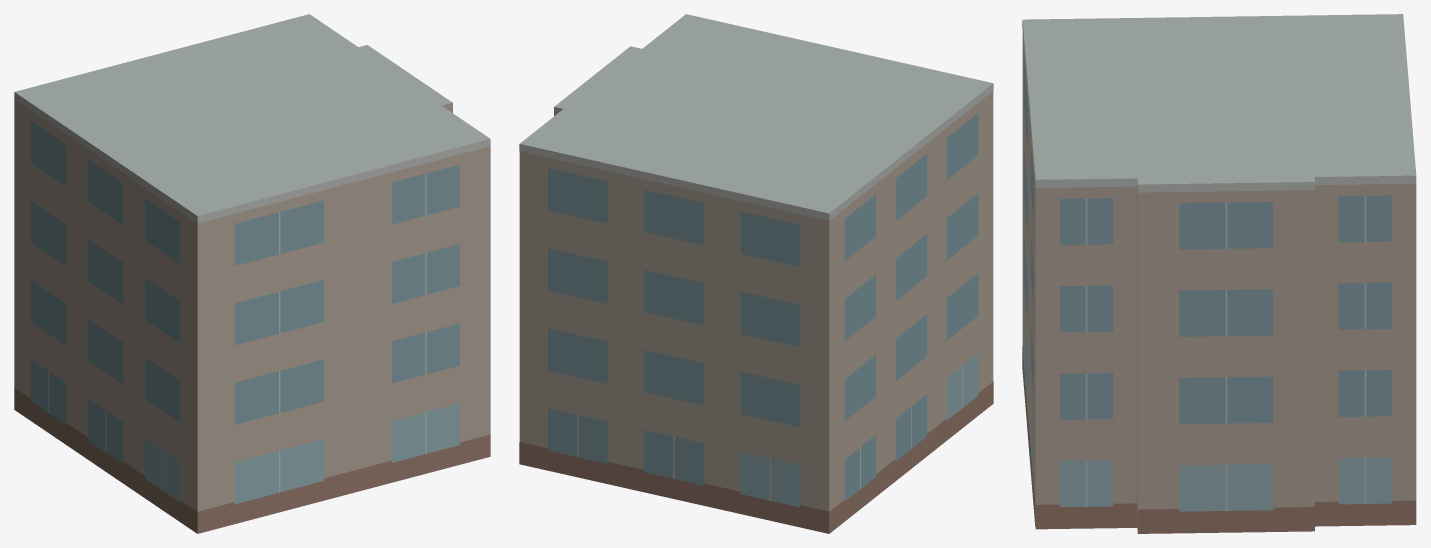
The model's file is survey-upis-32706314.glb.
The picture shows the model from 3 angles, left to right: view 1: azimuth 30°, elevation 25°; view 2: azimuth 150°, elevation 25°; view 3: azimuth 270°, elevation 25°; orthographic projection. The views are drawn at different scales.
Visible parts, largest first — view 1: survey-upis-32706314.tmp; view 2: survey-upis-32706314.tmp; view 3: survey-upis-32706314.tmp.
Part boxes in pixels (x1,y1,x2,y2): survey-upis-32706314.tmp: [14, 14, 490, 533]; survey-upis-32706314.tmp: [519, 14, 993, 533]; survey-upis-32706314.tmp: [1022, 14, 1416, 533].
Size of the model in its own units: 11 by 10.5 by 10.74.
